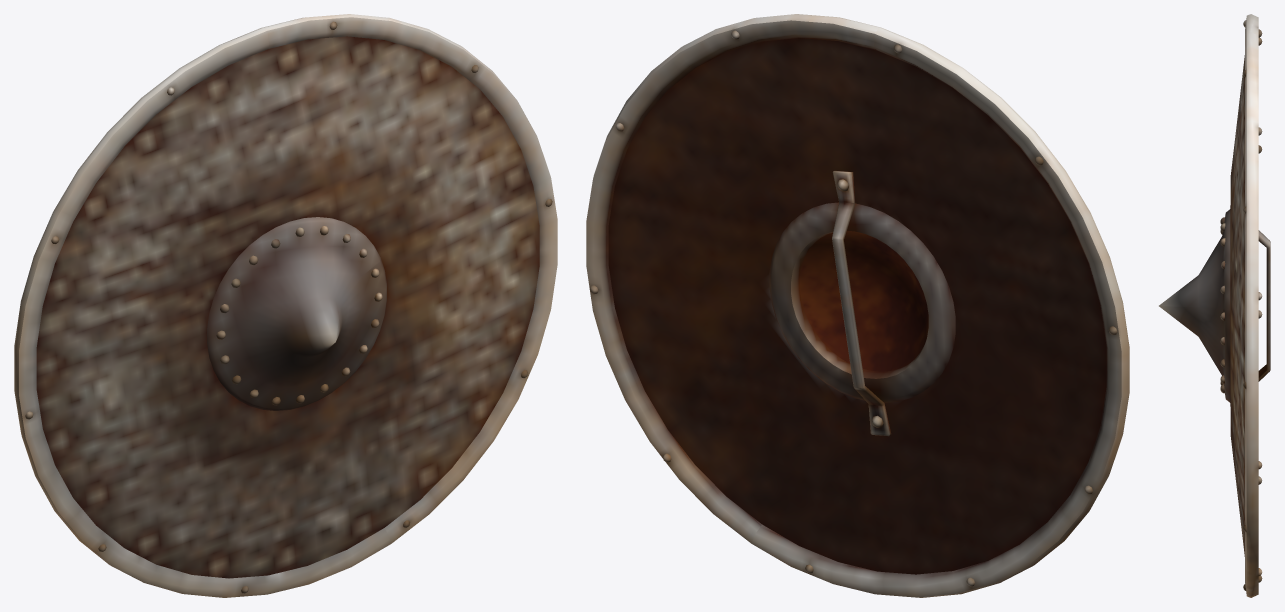
File: shield11.fbx
3 renders of one model, left to right at view 1: azimuth 30°, elevation 25°; view 2: azimuth 150°, elevation 25°; view 3: azimuth 270°, elevation 25°, orthographic. The views are drawn at different scales.
Visible parts, largest first — view 1: shield11_LOD0; view 2: shield11_LOD0; view 3: shield11_LOD0.
Boxes of the visible parts, x1,y1,x2,y2 form: shield11_LOD0: (14,14,557,597); shield11_LOD0: (586,14,1129,597); shield11_LOD0: (1159,14,1270,597).
Size of what is drawn, in the model's own units: 91.94 by 91.94 by 17.67.
